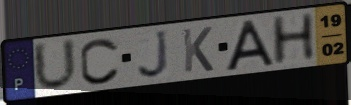A: (223, 18, 278, 73)
C: (78, 36, 122, 86)
H: (269, 10, 318, 68)
J: (136, 28, 172, 81)
K: (180, 25, 216, 75)
U: (31, 36, 80, 94)
